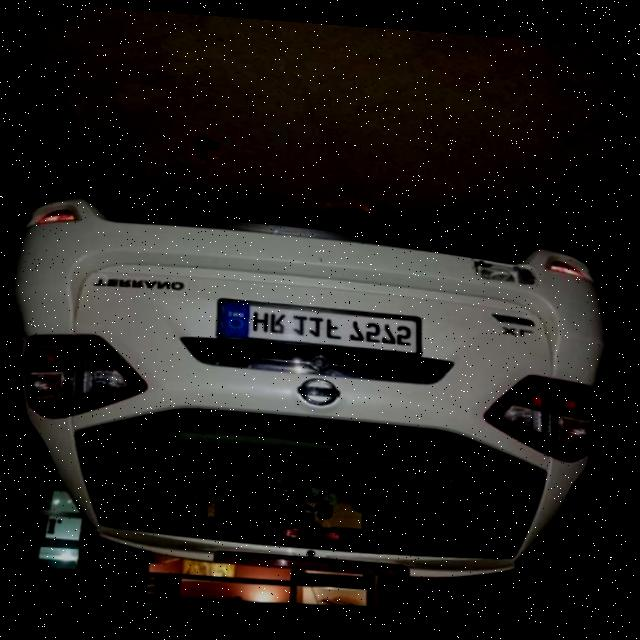plate: (214, 295, 422, 352)
